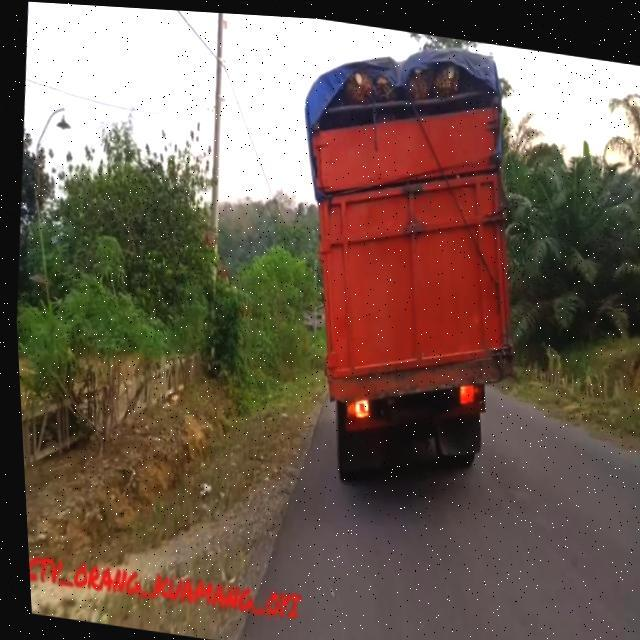truck: (265, 12, 542, 516)
